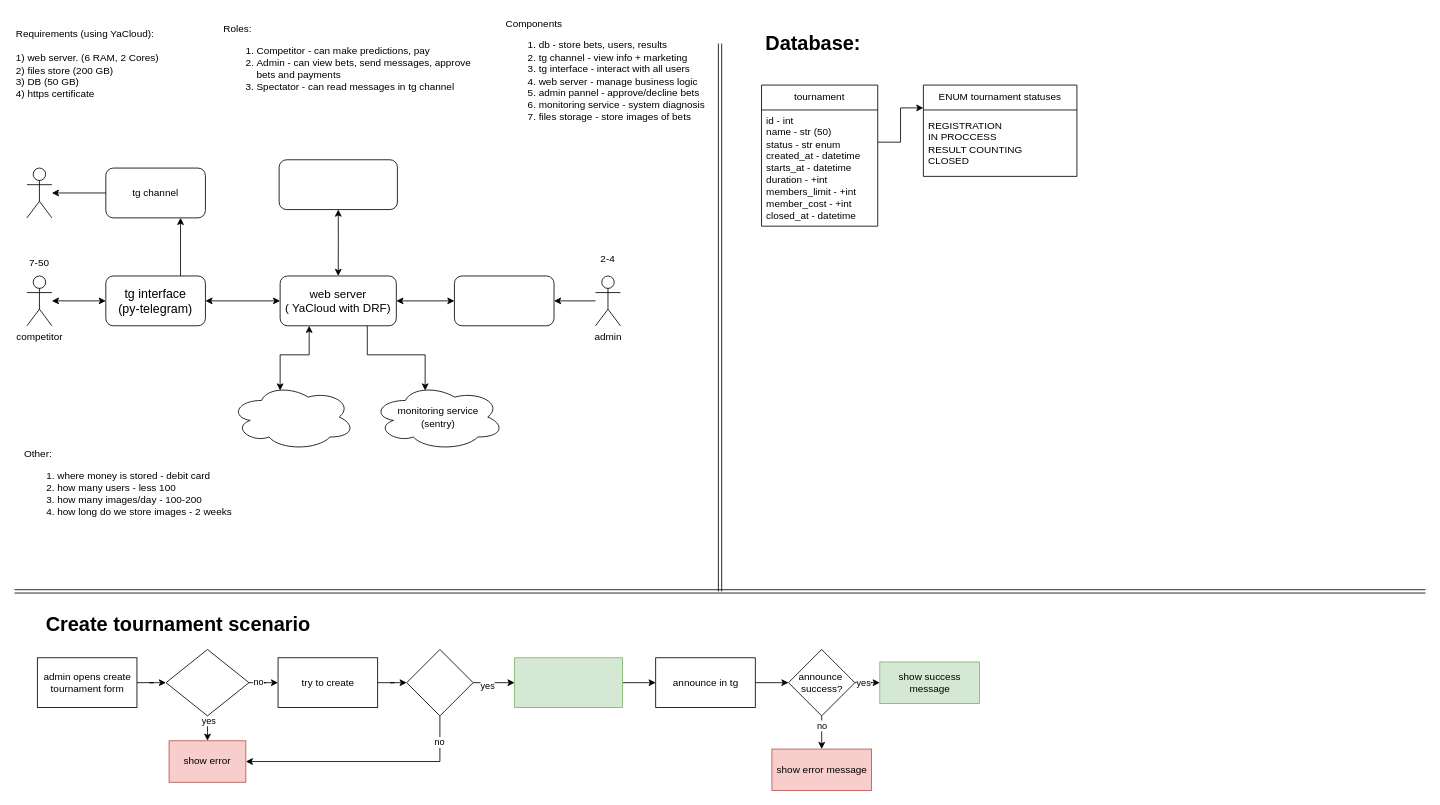
This 1440x805 diagram has some shape labels left out. Here are the shapes that lost their labels. From the top down, the centre of each, then its label:
the point at 39,192: spectator
the point at 337,184: db (mysql)
the point at 504,300: admin pannel (django admin)
the point at 292,416: files storage (YaStorage)
the point at 207,682: has active tour?
the point at 439,682: validation passed?
the point at 568,682: add to table and show
